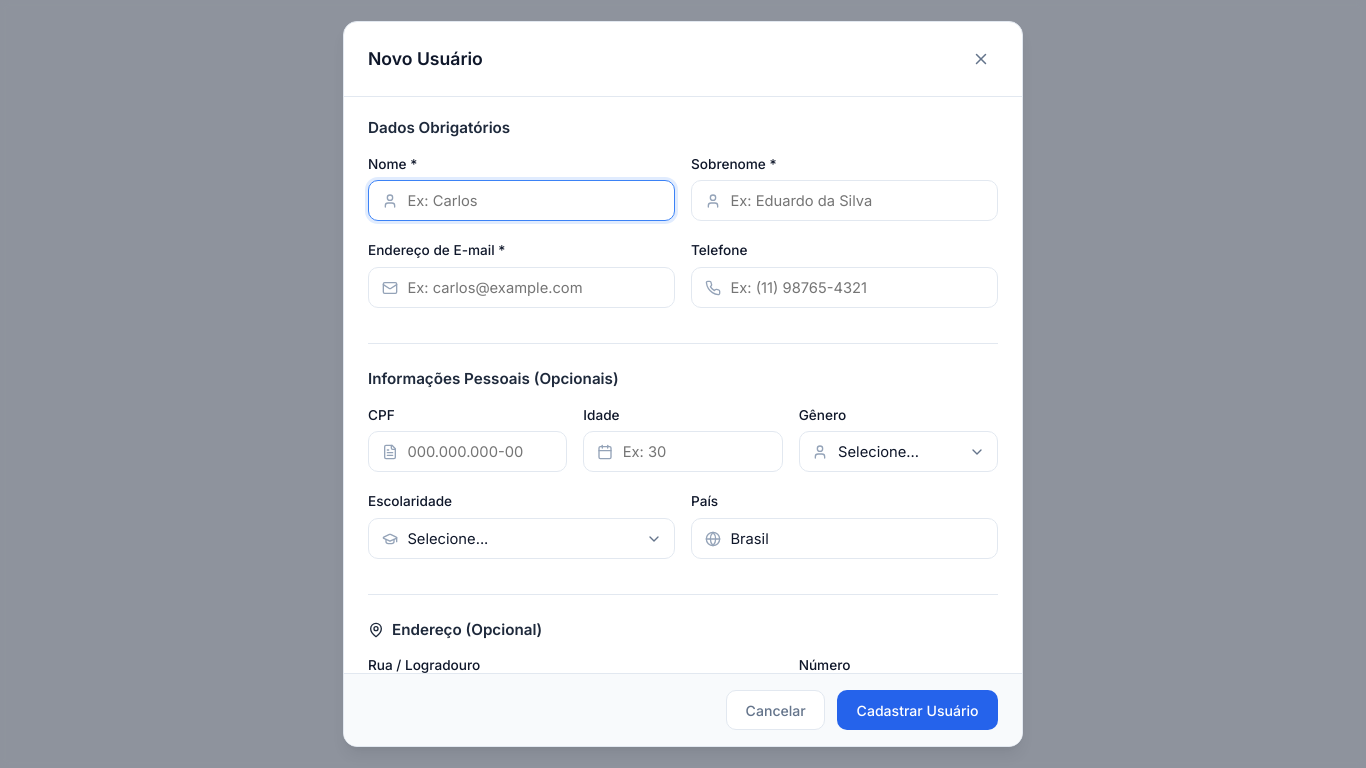
Scenario: UserFormModal Component Tests › valida formato de CPF quando informado e exibe erro se inválido
Type "Camila" into the field labelled "Nome *" at (522, 201), box [368, 180, 675, 221]
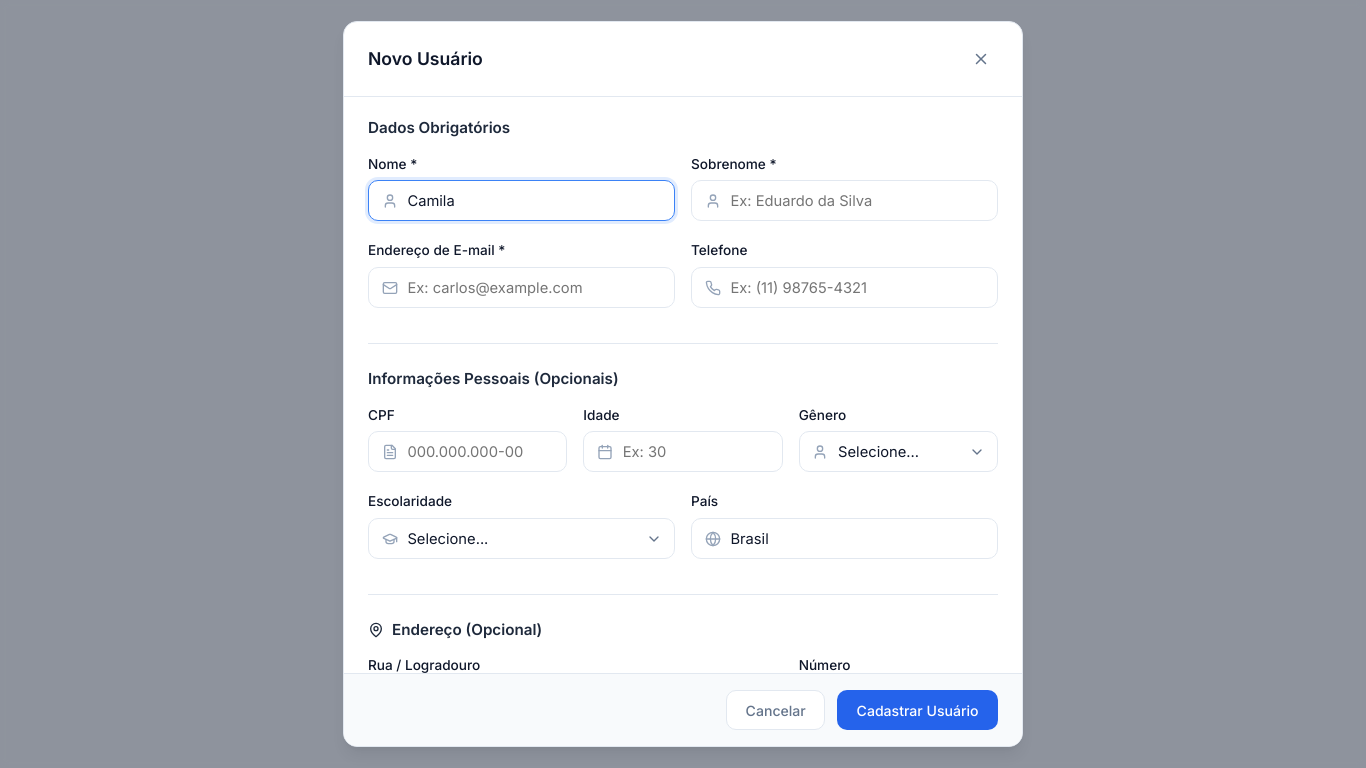
Type "Rocha" into the field labelled "Sobrenome *" at (844, 201), box [691, 180, 998, 221]
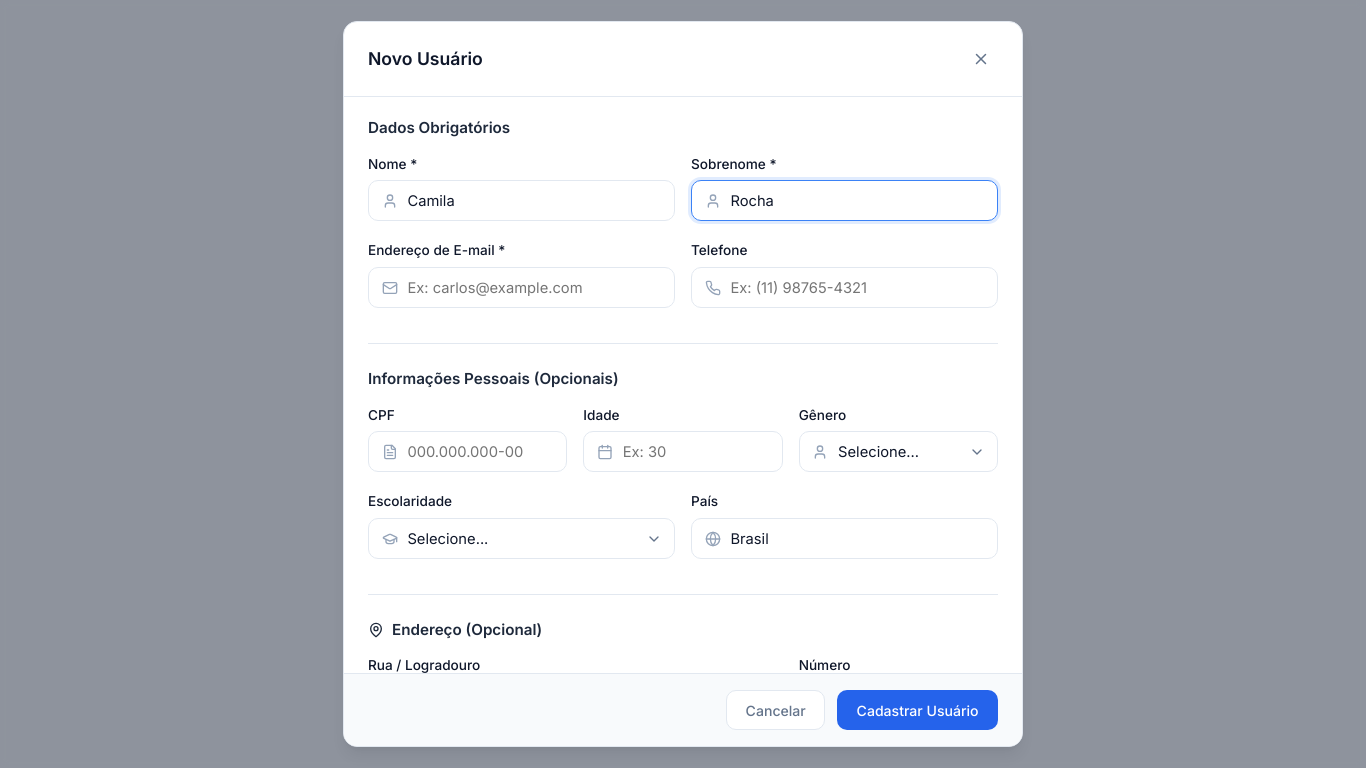
Type "camila@teste.com" into the field labelled "Endereço de E-mail *" at (522, 288), box [368, 267, 675, 308]
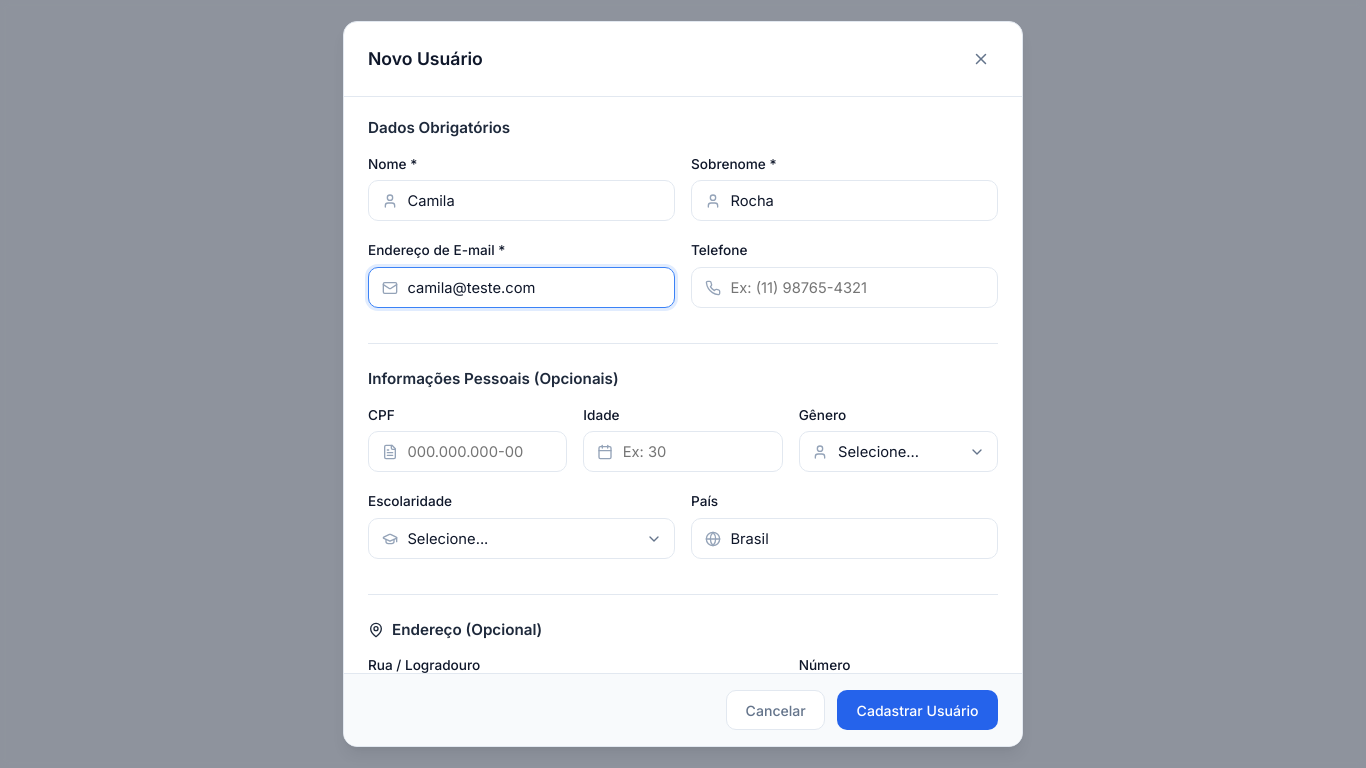
Type "111.111.111-11" into the field labelled "CPF" at (468, 452), box [368, 431, 567, 472]
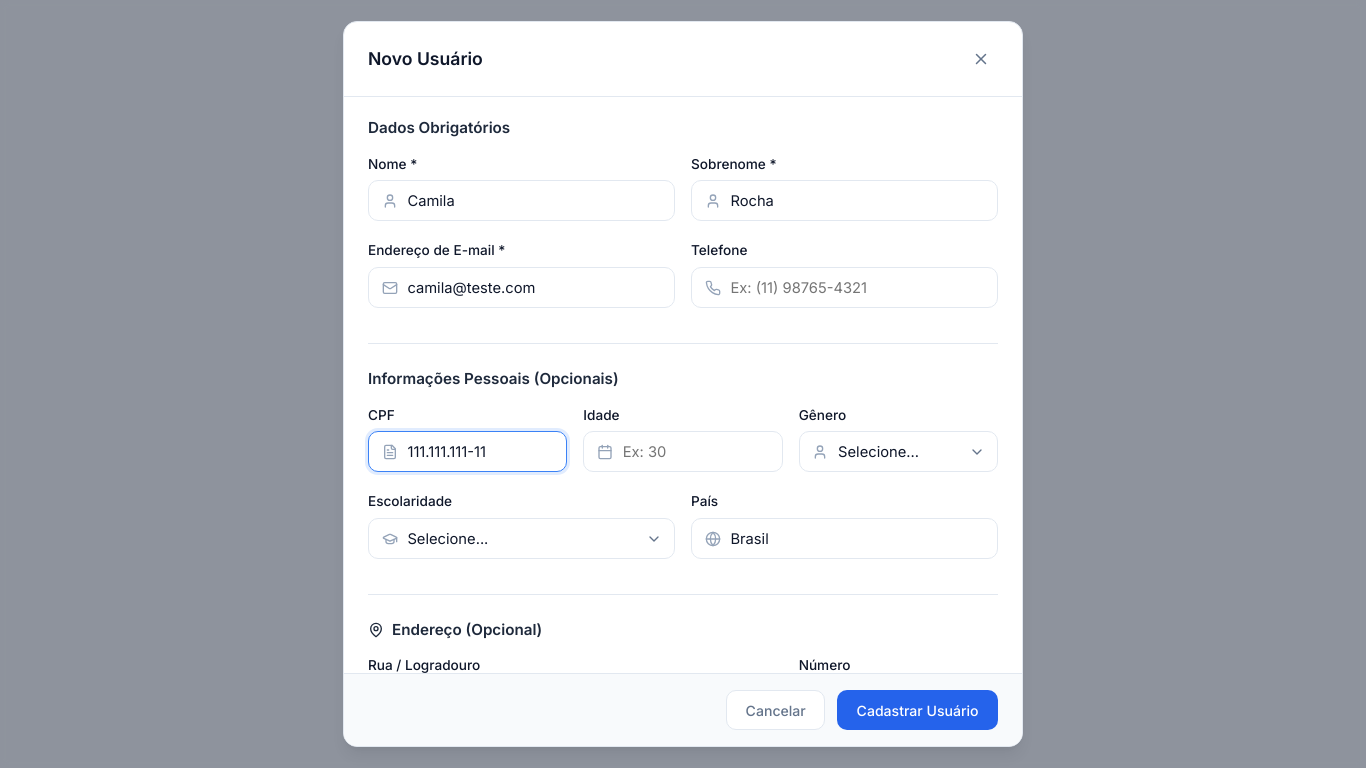
Click the button "Cadastrar Usuário" at (918, 710), box [837, 690, 998, 730]
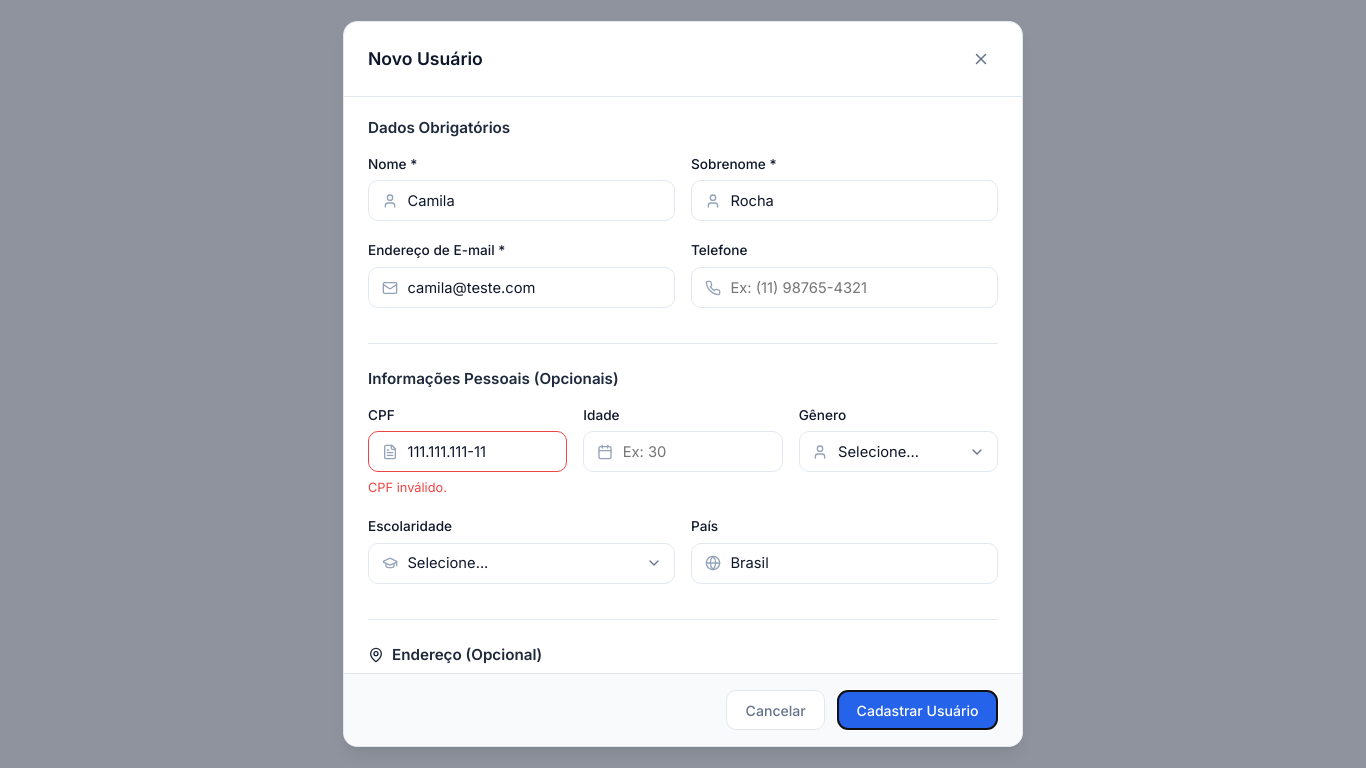
expect the text "CPF inválido." is shown: met, box [368, 480, 447, 495]
